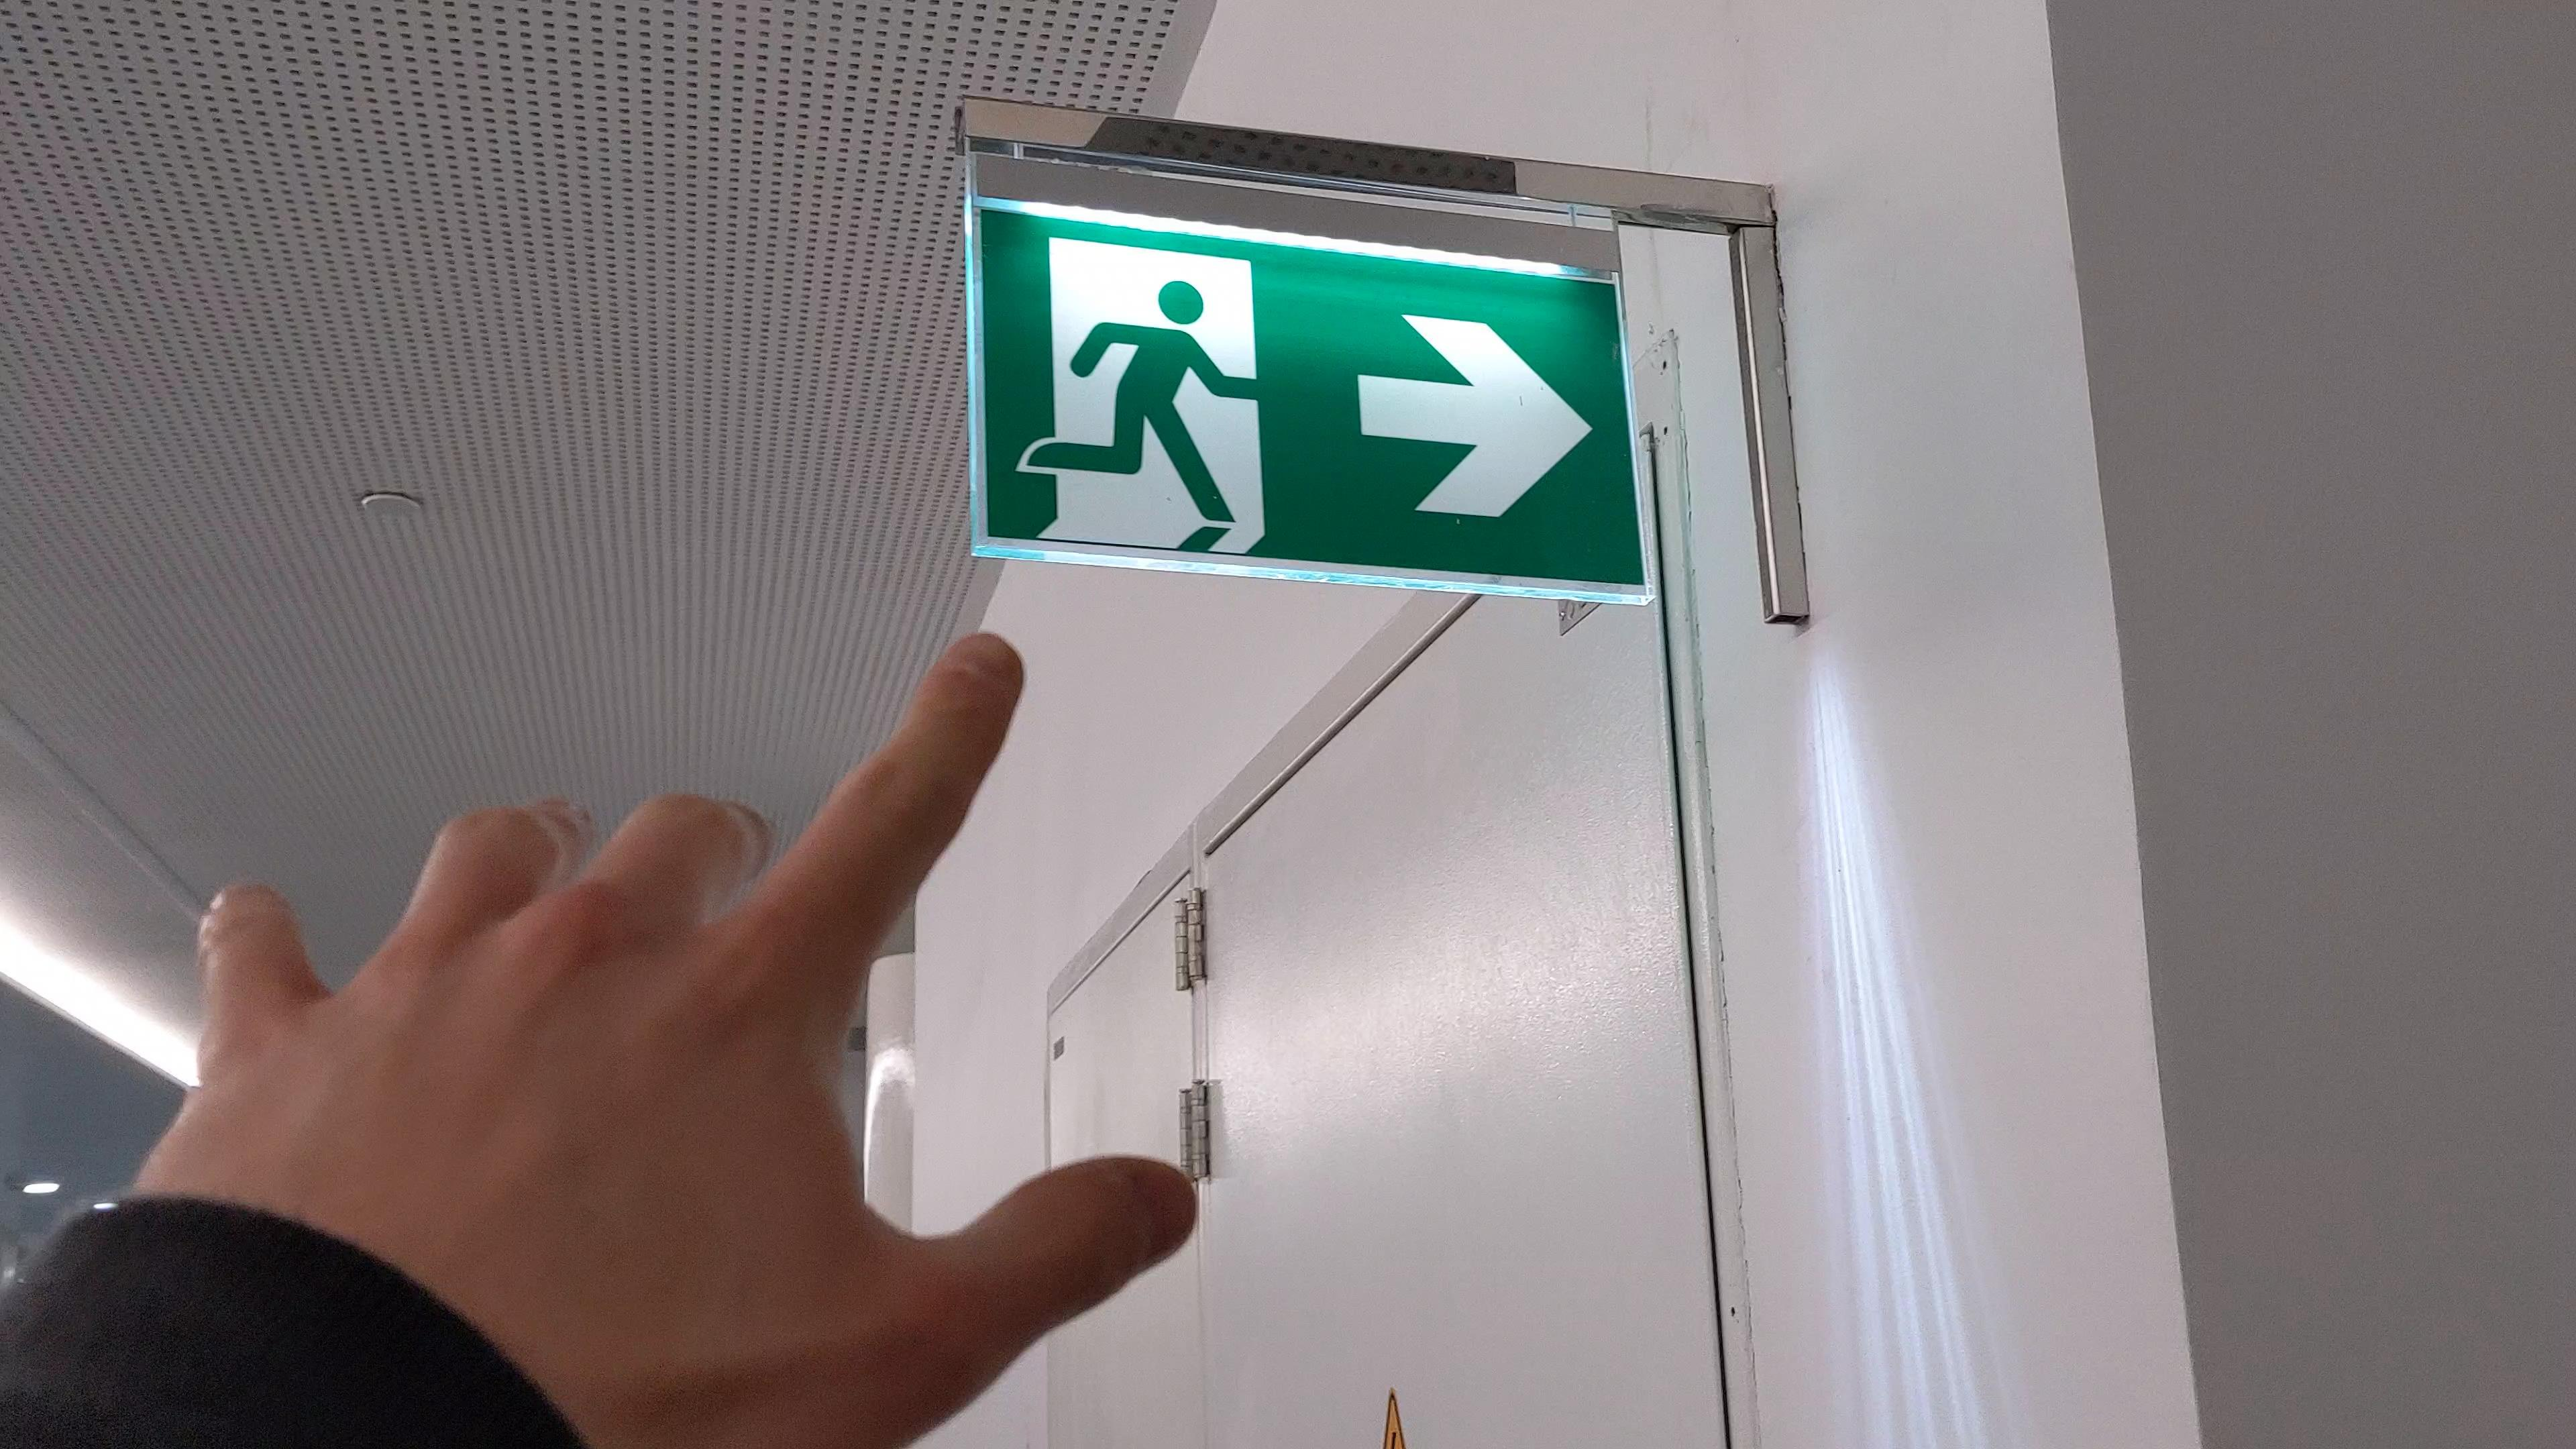emergency exit: (1008, 232, 1276, 561)
emergency right arrow: (1355, 306, 1598, 525)
